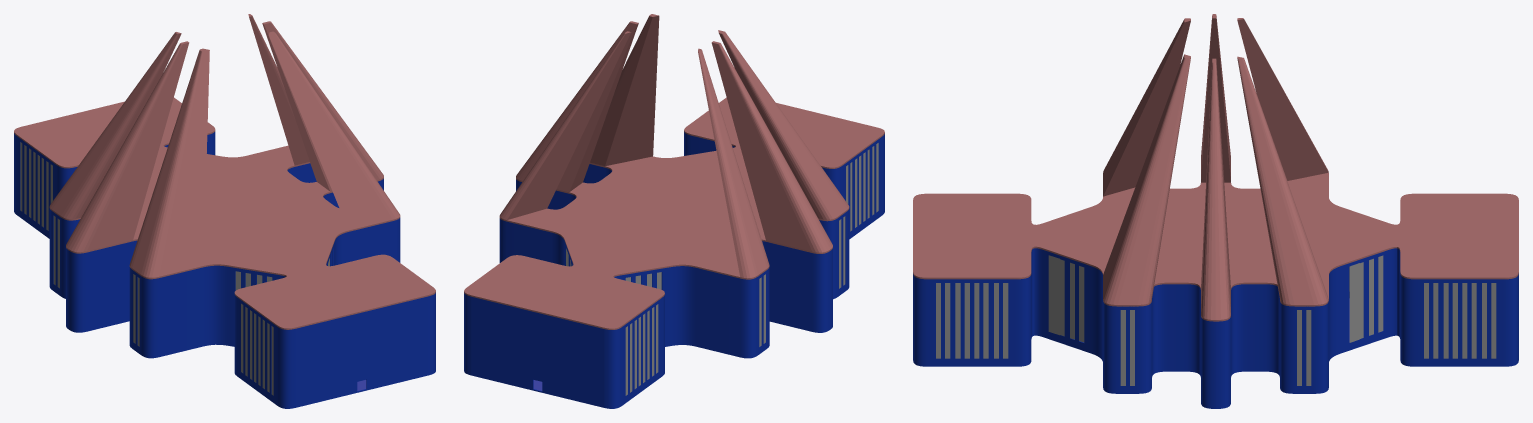
File: SS Module Industrial 3.FBX
3 renders of one model, left to right at view 1: azimuth 30°, elevation 25°; view 2: azimuth 150°, elevation 25°; view 3: azimuth 270°, elevation 25°, orthographic. The views are drawn at different scales.
Visible parts, largest first — view 1: Ceiling, Floor, Plane133, Plane132, Plane136, Plane137; view 2: Ceiling, Floor, Plane132, Plane133, Plane136, Plane137; view 3: Ceiling, Floor, Plane134, Plane135, Plane142, Plane141, Plane138, Plane139.
Part boxes in pixels (x1,y1,x2,y2): Ceiling: [14, 14, 435, 329]; Floor: [14, 132, 435, 408]; Plane133: [241, 303, 273, 395]; Plane132: [20, 142, 52, 230]; Plane136: [53, 216, 59, 288]; Plane137: [133, 274, 139, 346]; Ceiling: [464, 14, 884, 329]; Floor: [464, 131, 884, 408]; Plane132: [625, 304, 658, 395]; Plane133: [846, 143, 878, 231]; Plane136: [759, 274, 765, 346]; Plane137: [839, 216, 845, 288]; Ceiling: [913, 14, 1518, 321]; Floor: [913, 248, 1518, 408]; Plane134: [936, 283, 1008, 358]; Plane135: [1424, 283, 1496, 358]; Plane142: [1048, 255, 1084, 342]; Plane141: [1349, 255, 1383, 342]; Plane138: [1120, 310, 1134, 385]; Plane139: [1297, 310, 1311, 385].
Bounding box in the file's own units: 134 × 106 × 203.
